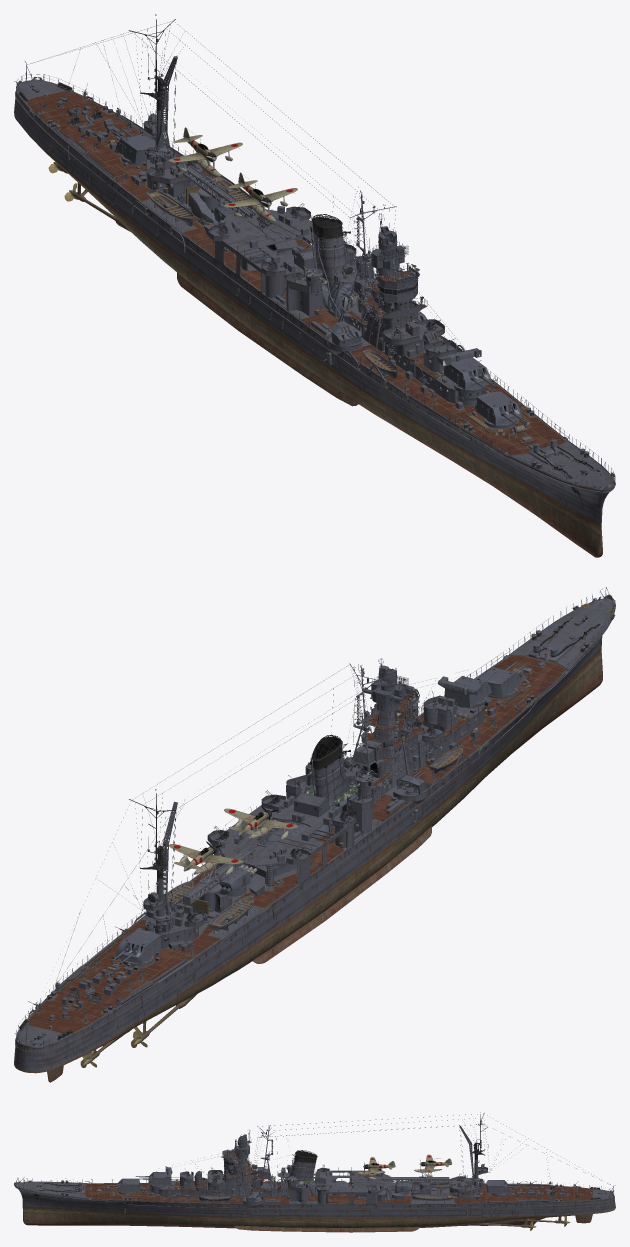
File: japanese_light_cruiser_5-agano-maximum-compressed.glb
The picture shows the model from 3 angles, top to bottom: view 1: azimuth 30°, elevation 25°; view 2: azimuth 150°, elevation 25°; view 3: azimuth 270°, elevation 25°; orthographic projection. The views are drawn at different scales.
Parts seen in each view (by area): view 1: JSC040_Yahagi_1944_midfront, JSC040_Yahagi_1944_midfront_Yahagi_jgm167_152mm50_type_41_sk, JSC040_Yahagi_1944_midfront_Yahagi_jgm168_152mm50_type_41_rf, JSC040_Yahagi_1944_midfront_Yahagi_jc001_catapult_shiki2_ski; view 2: JSC040_Yahagi_1944_midfront, JSC040_Yahagi_1944_midfront_Yahagi_jgm167_152mm50_type_41_sk, JSC040_Yahagi_1944_midfront_Yahagi_jgm168_152mm50_type_41_rf, JSC040_Yahagi_1944_midfront_Yahagi_jc001_catapult_shiki2_ski; view 3: JSC040_Yahagi_1944_midfront, JSC040_Yahagi_1944_midfront_Yahagi_jgm167_152mm50_type_41_sk, JSC040_Yahagi_1944_midfront_Yahagi_jc001_catapult_shiki2_ski, JSC040_Yahagi_1944_midfront_Yahagi_jgm168_152mm50_type_41_rf.
Part boxes in pixels (x1,y1,x2,y2): JSC040_Yahagi_1944_midfront: (14, 14, 615, 557); JSC040_Yahagi_1944_midfront_Yahagi_jgm167_152mm50_type_41_sk: (110, 127, 526, 426); JSC040_Yahagi_1944_midfront_Yahagi_jgm168_152mm50_type_41_rf: (437, 348, 496, 390); JSC040_Yahagi_1944_midfront_Yahagi_jc001_catapult_shiki2_ski: (181, 165, 256, 218); JSC040_Yahagi_1944_midfront: (14, 587, 615, 1082); JSC040_Yahagi_1944_midfront_Yahagi_jgm167_152mm50_type_41_sk: (110, 661, 526, 964); JSC040_Yahagi_1944_midfront_Yahagi_jgm168_152mm50_type_41_rf: (438, 670, 496, 707); JSC040_Yahagi_1944_midfront_Yahagi_jc001_catapult_shiki2_ski: (181, 846, 256, 904); JSC040_Yahagi_1944_midfront: (14, 1112, 615, 1232); JSC040_Yahagi_1944_midfront_Yahagi_jgm167_152mm50_type_41_sk: (104, 1178, 521, 1194); JSC040_Yahagi_1944_midfront_Yahagi_jc001_catapult_shiki2_ski: (381, 1175, 449, 1184); JSC040_Yahagi_1944_midfront_Yahagi_jgm168_152mm50_type_41_rf: (135, 1166, 172, 1186).
Bounding box in the file's own units: 0.0111 × 0.0243 × 0.1164.
Materials: 91 (90 with a texture image).
